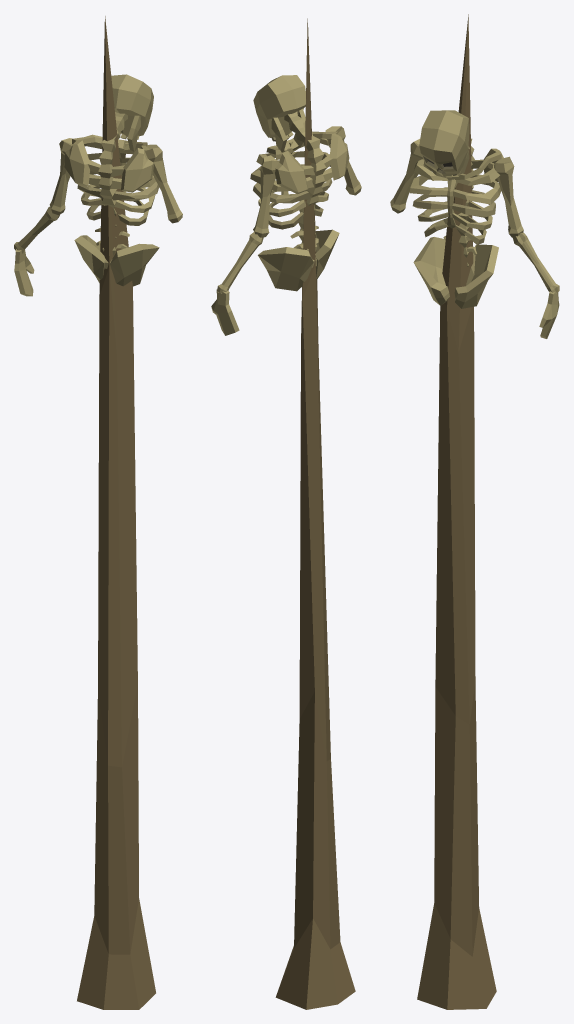
The model's file is Sceleton_8.fbx.
3 views of the same model, side by side, from view 1: azimuth 90°, elevation 25°; view 2: azimuth 150°, elevation 25°; view 3: azimuth 270°, elevation 25° (orthographic).
Parts seen in each view (by area): view 1: Sceleton_8; view 2: Sceleton_8; view 3: Sceleton_8.
Boxes of the visible parts, left/top/right/bottom form: Sceleton_8: left=14, top=16, right=182, bottom=1009; Sceleton_8: left=211, top=18, right=361, bottom=1009; Sceleton_8: left=390, top=14, right=559, bottom=1009.
Bounding box in the file's own units: 44.79 × 450 × 70.18.
